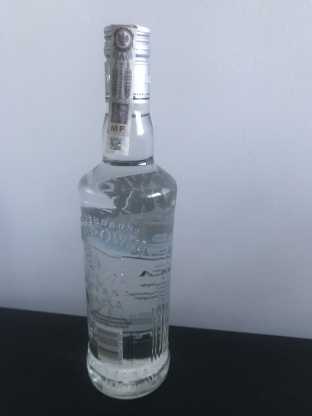nakretka: (101, 20, 153, 107)
